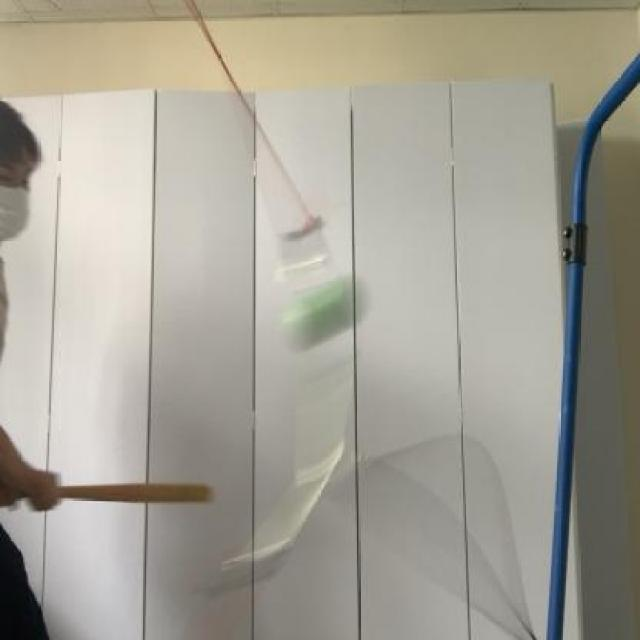baseball: (284, 266, 368, 354)
